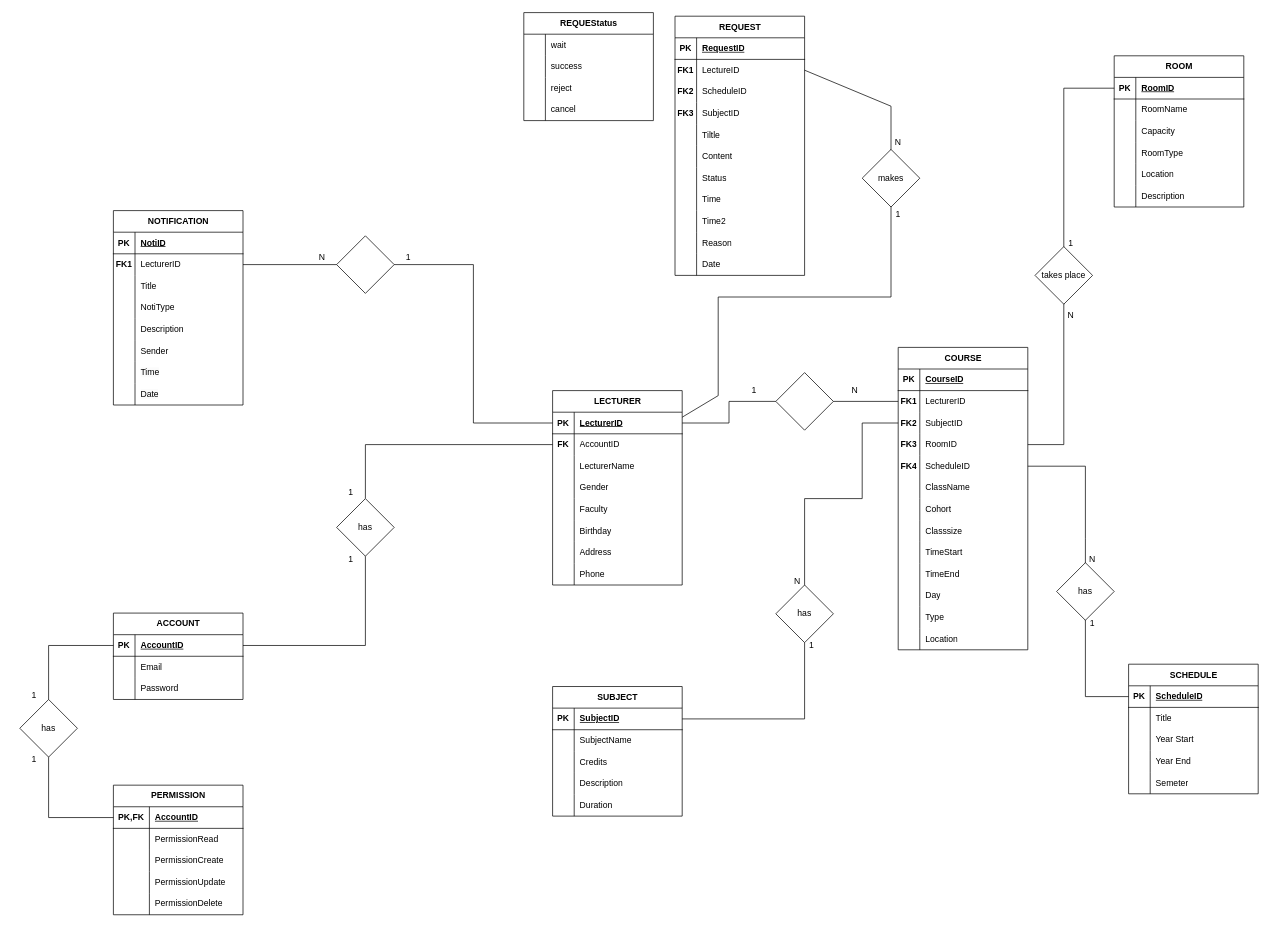
This 1271x927 diagram has some shape labels left out. The centre of each missing label's shape, as x and y in pixels:
"recieves" goes at point 365,264.
"teaches" goes at point 804,401.
